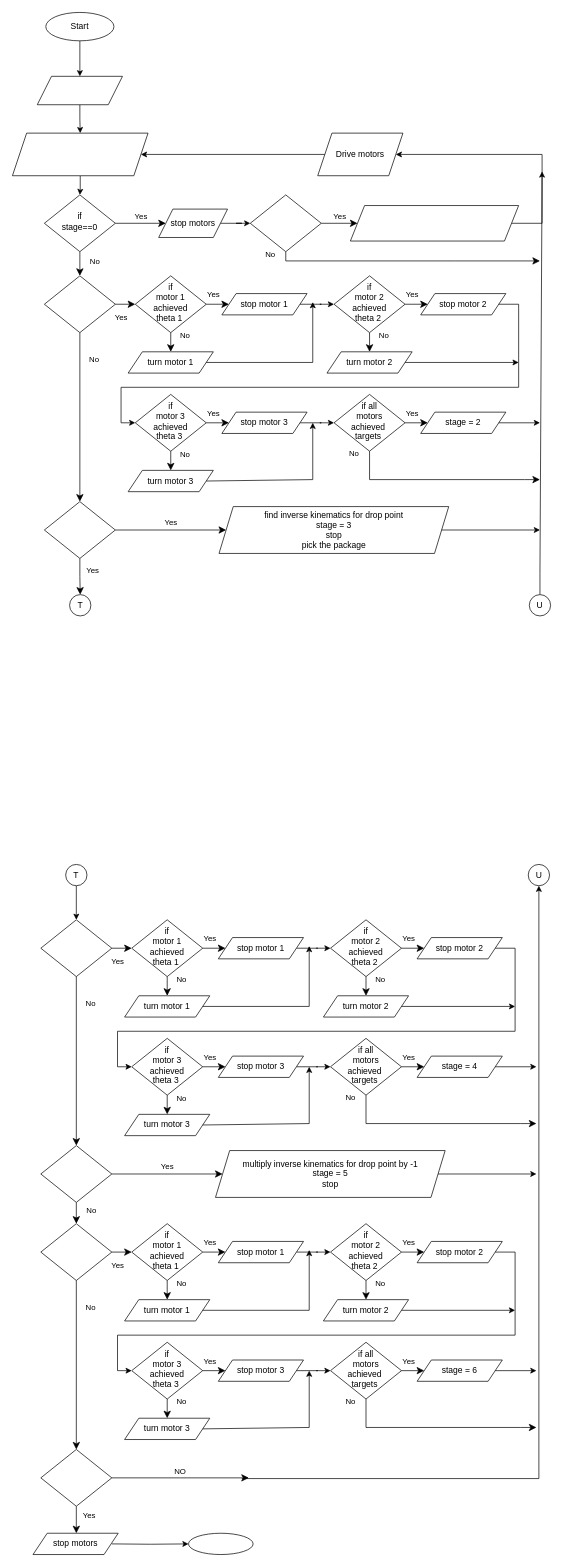
Some shapes in this 563 by 1567 pixel diagram are drawn without their labels. The shapes that lost their labels are listed below. From the top down, each one's centre as x and y in pixels, then its label:
the point at 79,90: stage = 0 substage = 0
the point at 80,154: Get motor encoder readings Get distance sensor readings
the point at 285,223: if robot arrived?
the point at 434,223: find inverse kinematics for pick point stage = 1 stop
the point at 79,304: if stage==1
the point at 79,529: if stage==2
the point at 76,948: if stage==3
the point at 76,1173: if stage==4
the point at 76,1251: if stage==5
the point at 76,1477: if stage==6
the point at 220,1544: end
